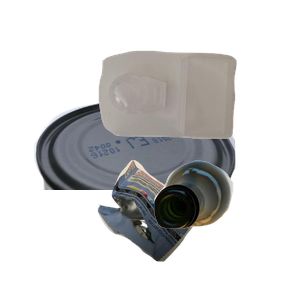glass: (151, 158, 300, 300)
metal: (16, 96, 244, 276)
plastic: (96, 48, 300, 179)
trash: (95, 157, 282, 300)
